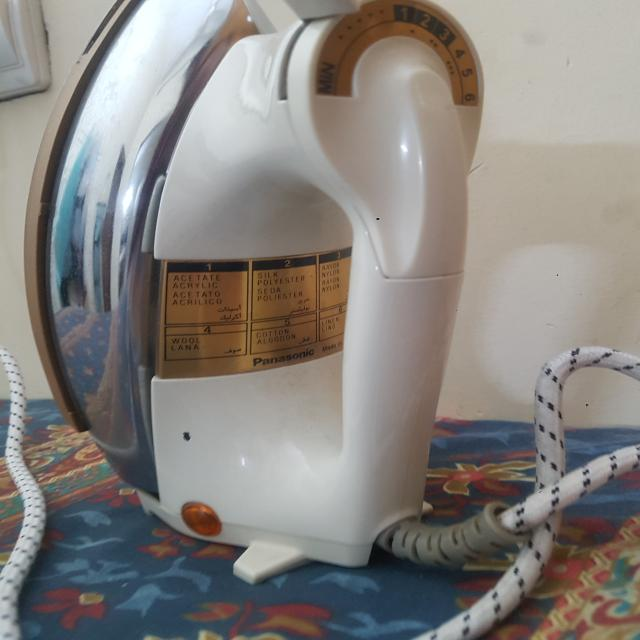electronic: (24, 0, 486, 584)
